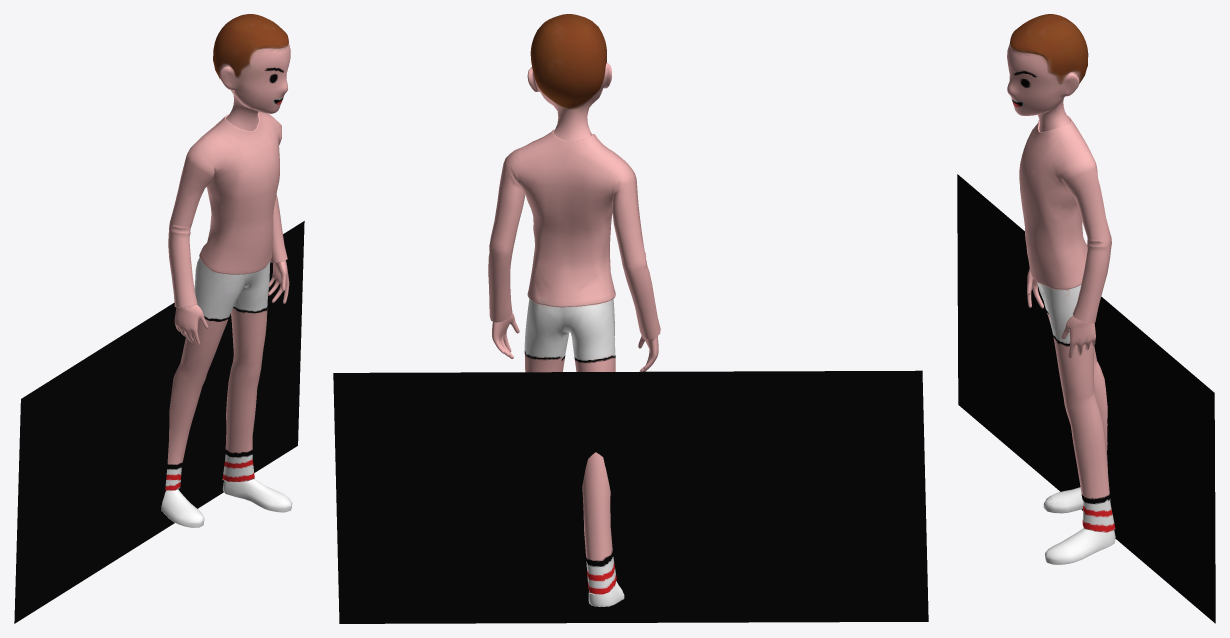
Rendered from chico1 - fase3.fbx.
The picture shows the model from 3 angles, left to right: view 1: azimuth 30°, elevation 25°; view 2: azimuth 150°, elevation 25°; view 3: azimuth 270°, elevation 25°; orthographic projection. The views are drawn at different scales.
Visible parts, largest first — view 1: node_id6, node_id9; view 2: node_id6, node_id9; view 3: node_id6, node_id9.
Boxes of the visible parts, bbox=[...] form: node_id6: bbox=[14, 221, 304, 623]; node_id9: bbox=[161, 14, 292, 527]; node_id6: bbox=[333, 370, 928, 623]; node_id9: bbox=[488, 14, 660, 606]; node_id6: bbox=[957, 174, 1215, 623]; node_id9: bbox=[1007, 14, 1115, 564].
Bounding box in the file's own units: 0.4282 × 0.512 × 0.2221.
Materials: 2 (2 with a texture image).
